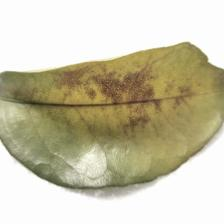black spot: (53, 68, 179, 116)
